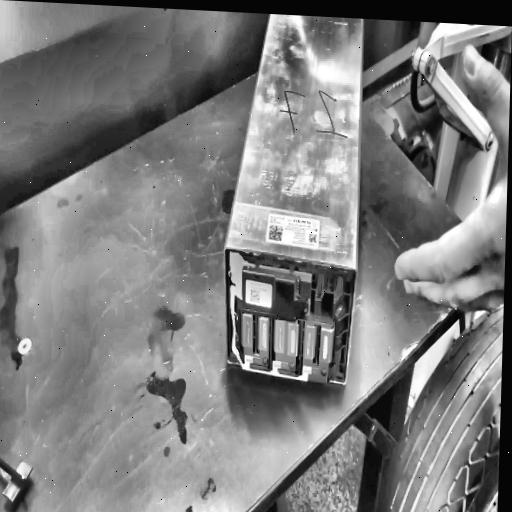battery_module: (224, 14, 364, 385)
